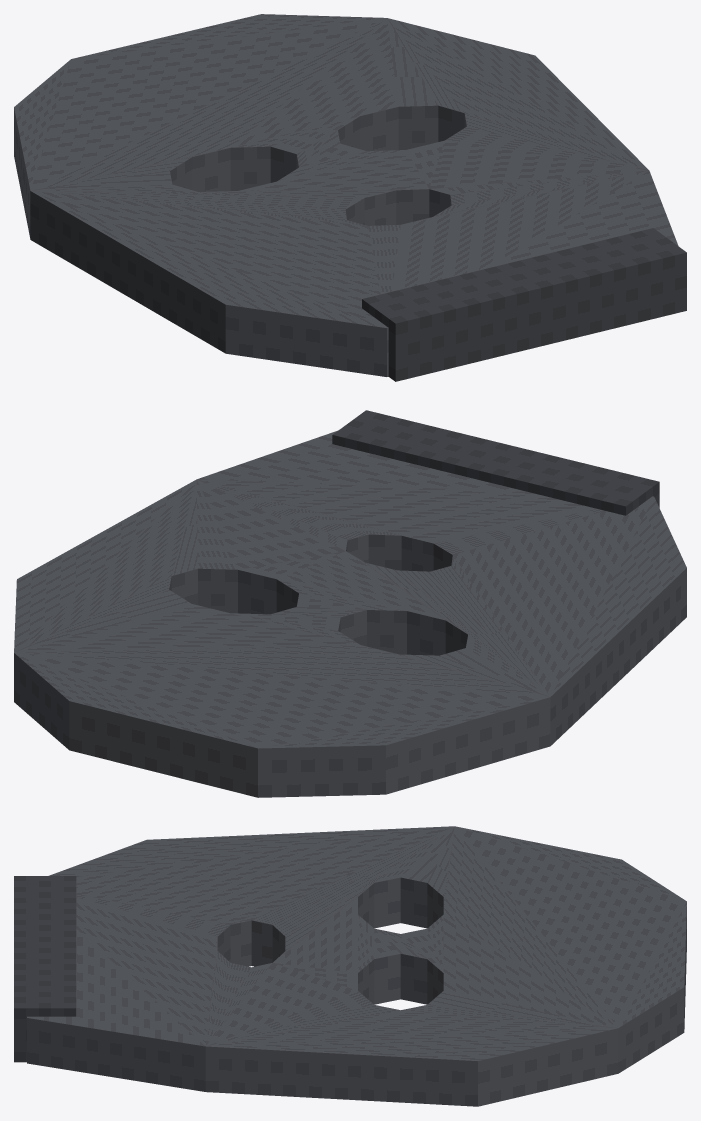
File: mask_ski.glb
3 renders of one model, top to bottom at view 1: azimuth 30°, elevation 25°; view 2: azimuth 150°, elevation 25°; view 3: azimuth 270°, elevation 25°, orthographic. The views are drawn at different scales.
Visible parts, largest first — view 1: block_knitted face covering, block_neck hem; view 2: block_knitted face covering, block_neck hem; view 3: block_knitted face covering, block_neck hem.
Part boxes in pixels (<box>): block_knitted face covering: <box>14,14,678,376</box>; block_neck hem: <box>362,228,686,381</box>; block_knitted face covering: <box>14,430,686,797</box>; block_neck hem: <box>332,410,659,515</box>; block_knitted face covering: <box>27,826,686,1106</box>; block_neck hem: <box>14,876,76,1062</box>.
Size of the model in its own units: 0.1285 by 0.0138 by 0.1556.
1 material, 1 textured.
